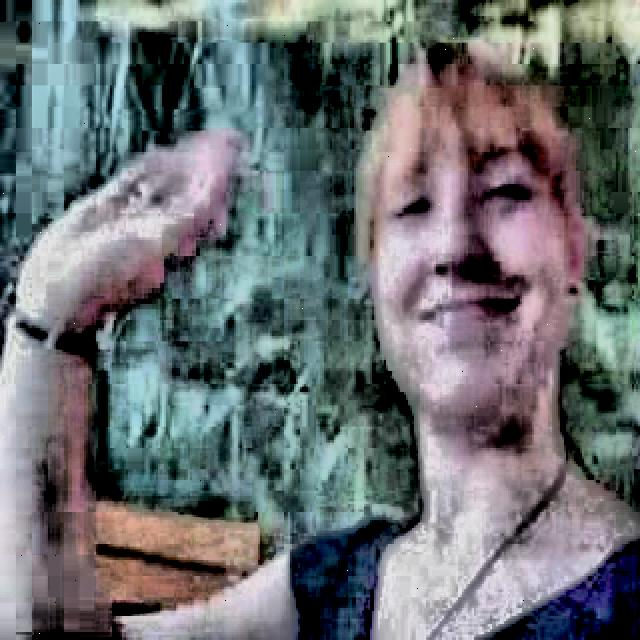T: (6, 53, 639, 637)
